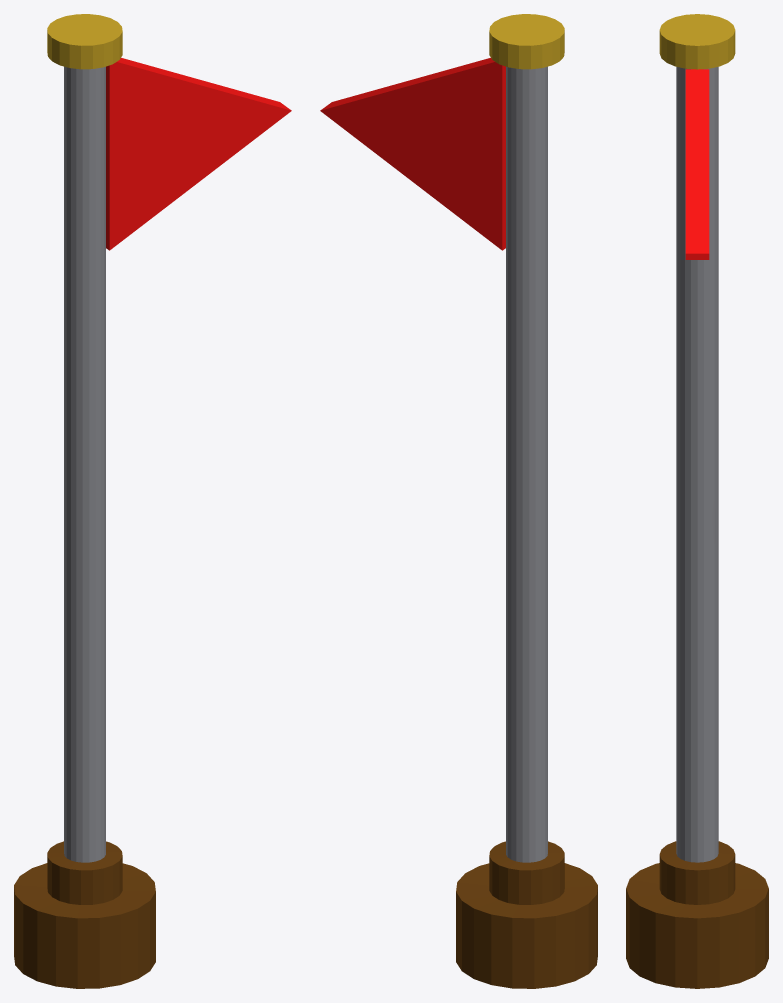
File: GoalFlag.fbx
3 renders of one model, left to right at view 1: azimuth 30°, elevation 25°; view 2: azimuth 150°, elevation 25°; view 3: azimuth 270°, elevation 25°, orthographic.
Visible parts, largest first — view 1: 円柱; view 2: 円柱; view 3: 円柱.
Part boxes in pixels (x1,y1,x2,y2): 円柱: (14, 14, 291, 988); 円柱: (320, 14, 597, 988); 円柱: (626, 14, 768, 988).
Bounding box in the file's own units: 14.41 × 48.67 × 6.78.
